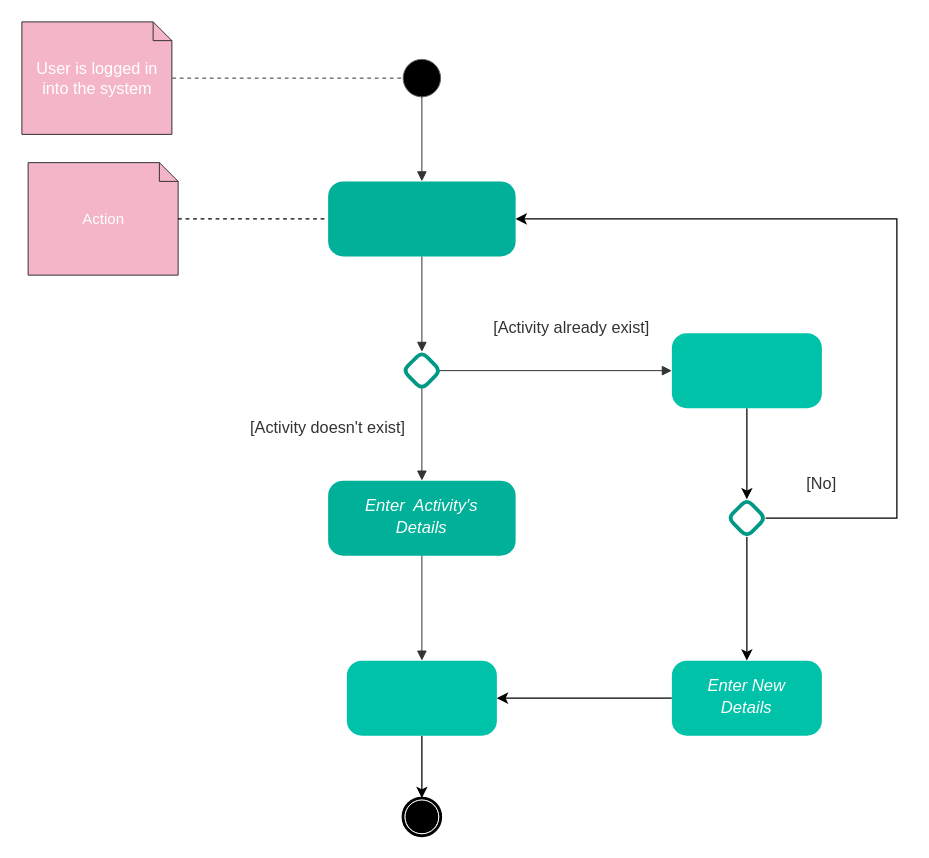
Some shapes in this 929 by 858 pixel diagram are drawn without their labels. Each missing label, with the box of its shape:
[Yes]: (746, 534, 822, 592)
Create Activity: (327, 180, 516, 256)
Create New Instance of Activity: (671, 332, 822, 408)
Creates New Activity: (346, 660, 497, 736)
